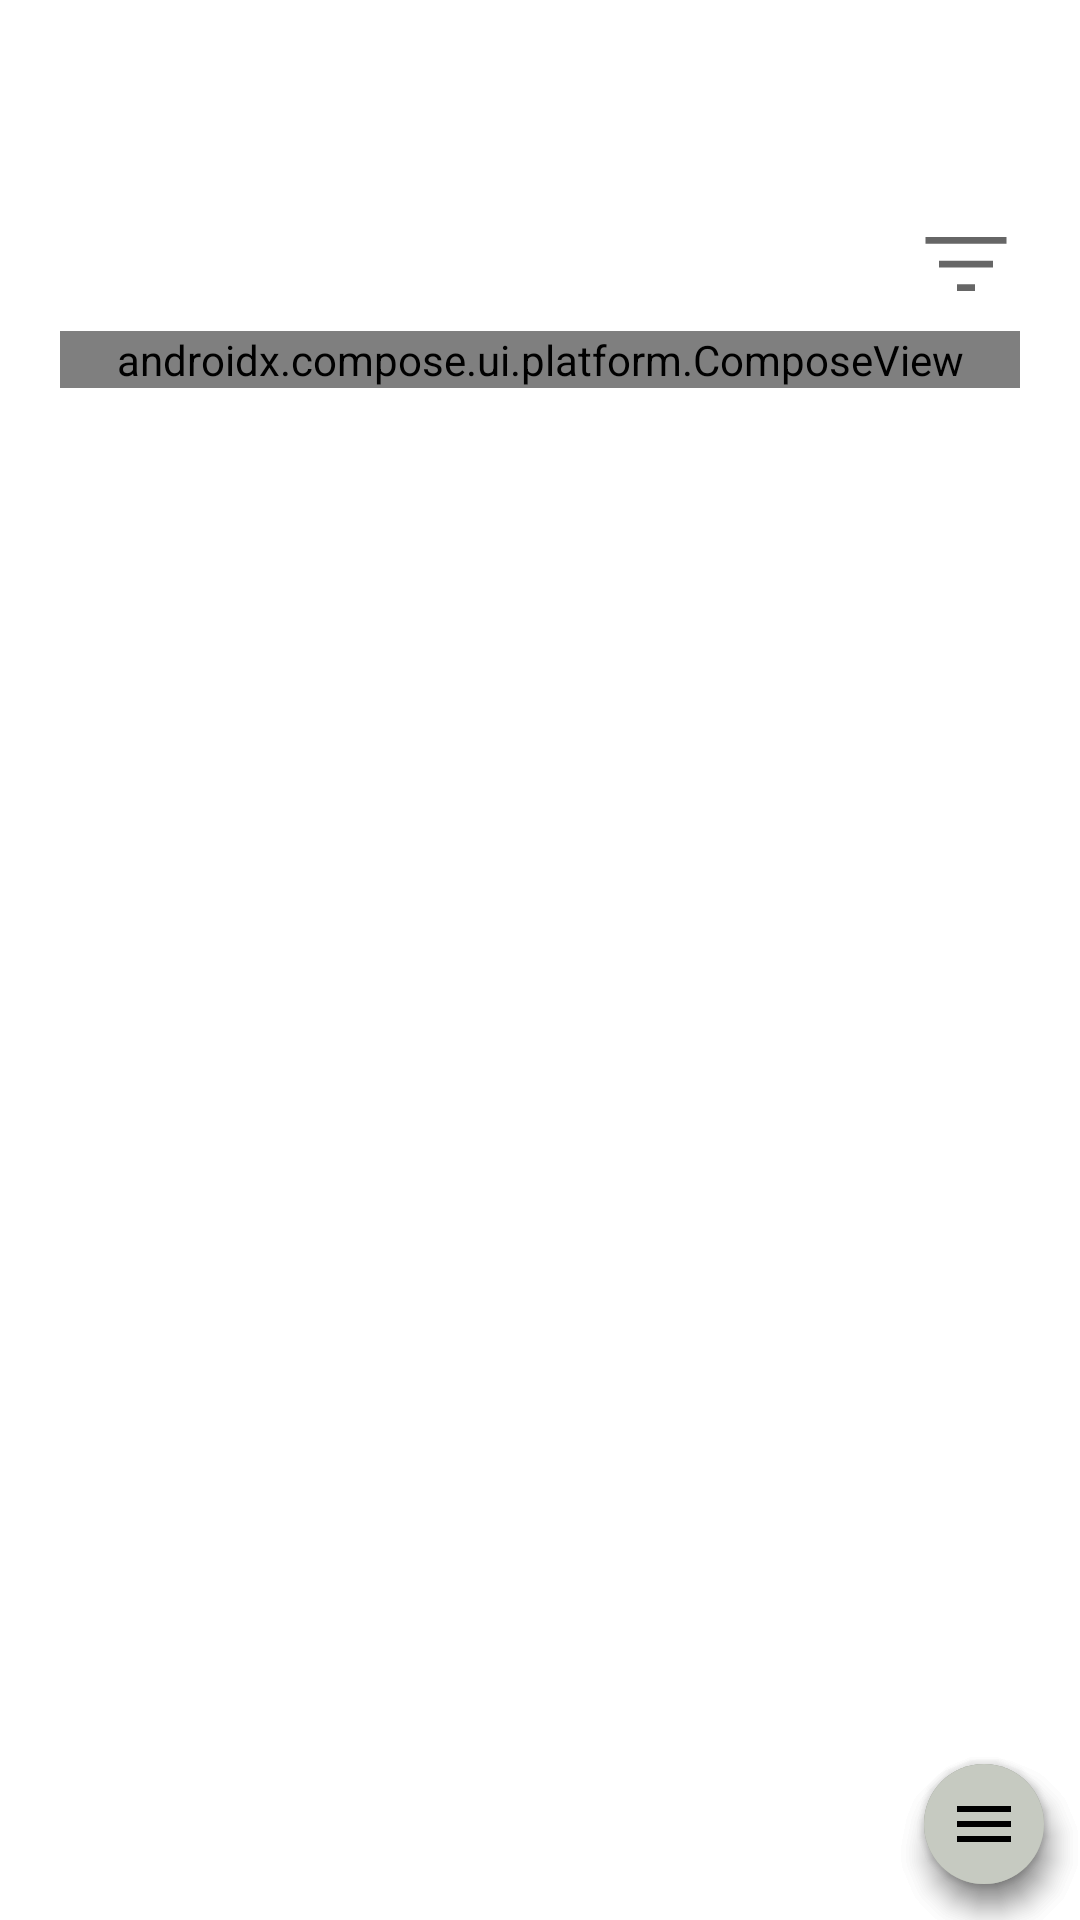

Icon click points for this 1080x1920 phone screenshot, format [x,y]:
filter list: [966,264]
